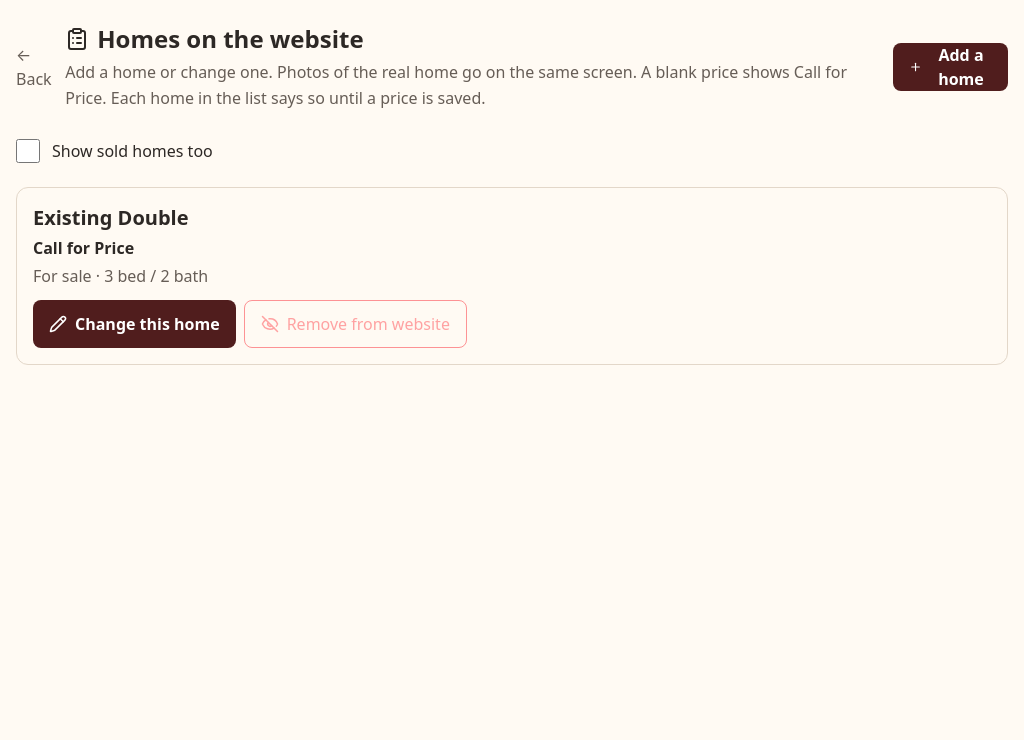
it: rejects a negative public sale price before sending a save
Click the button "Change this home".
click(134, 324)  # box [33,300,236,348]
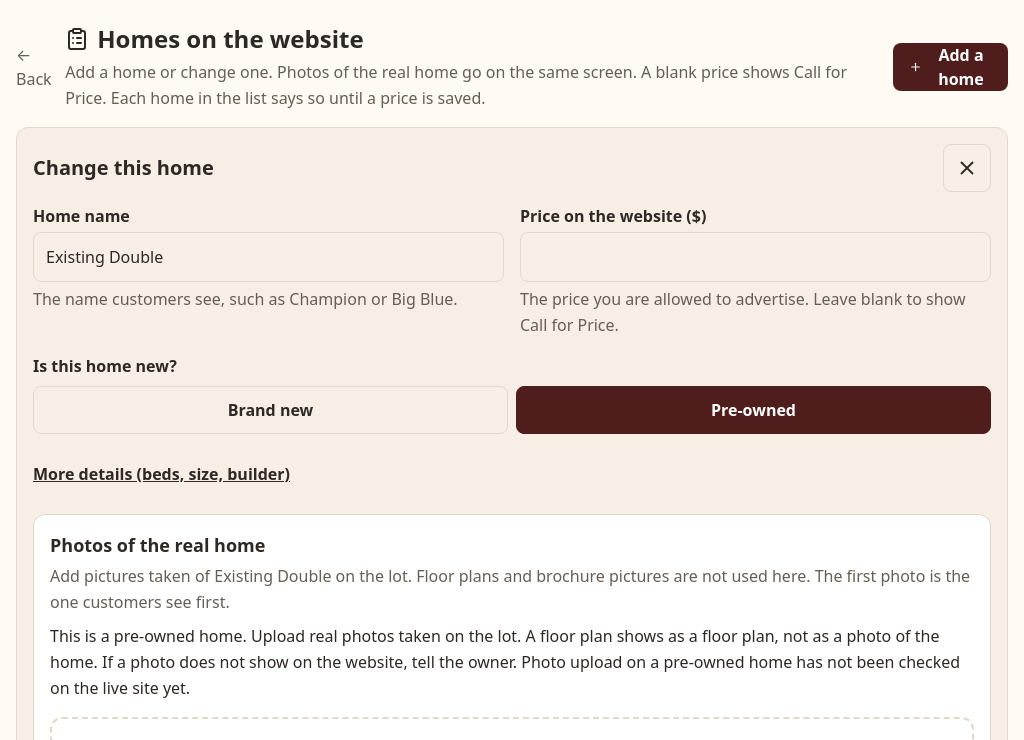
Type "-1" into the number field labelled "Price on the website ($)".
click(756, 257); type("-1")  # box [520,232,991,282]
(page scrolled)
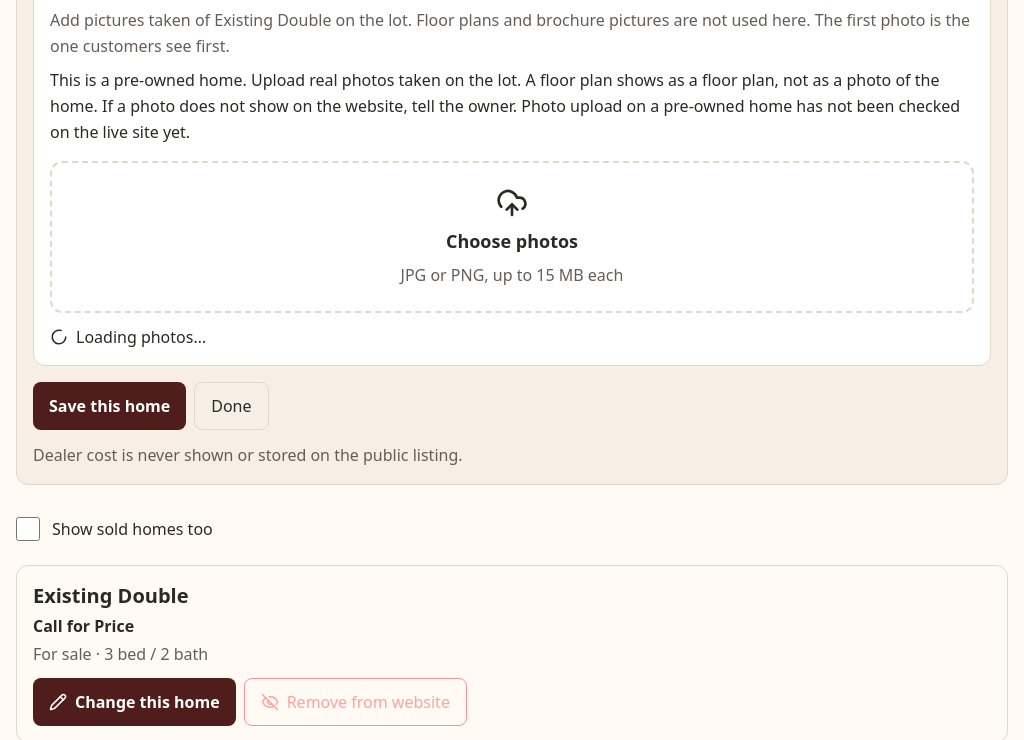
Click the button "Save this home".
click(110, 406)  # box [33,382,186,430]
(page scrolled)
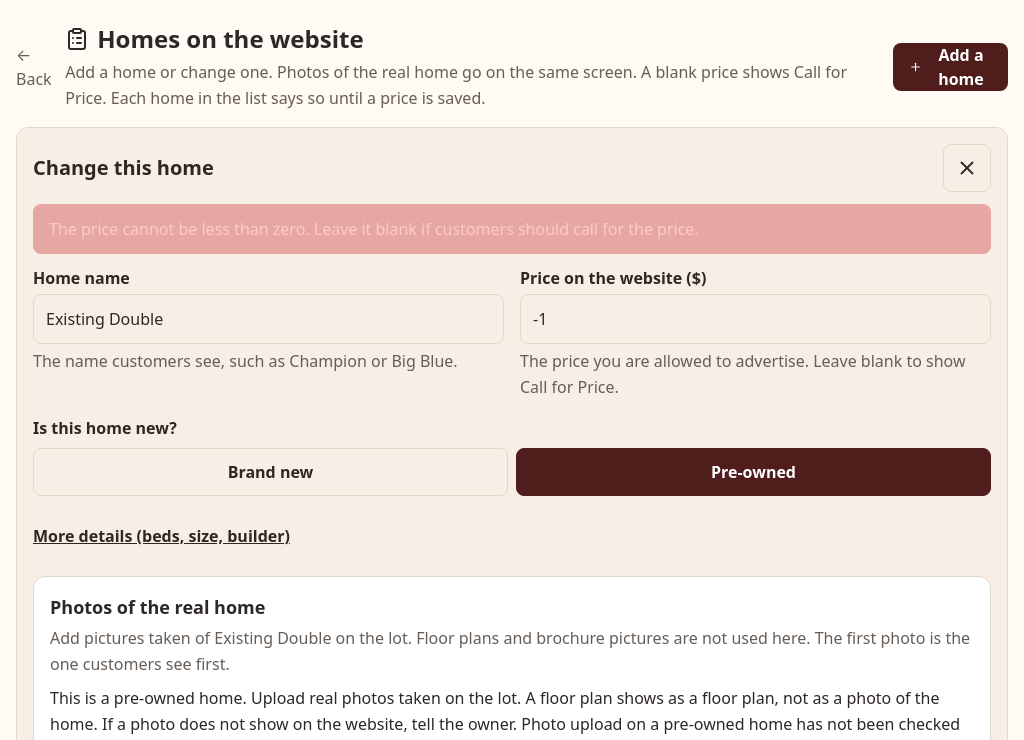
Now the text "The price cannot be less than zero. Leave it blank if customers should call for the price." is shown, box [49,218,699,240]
